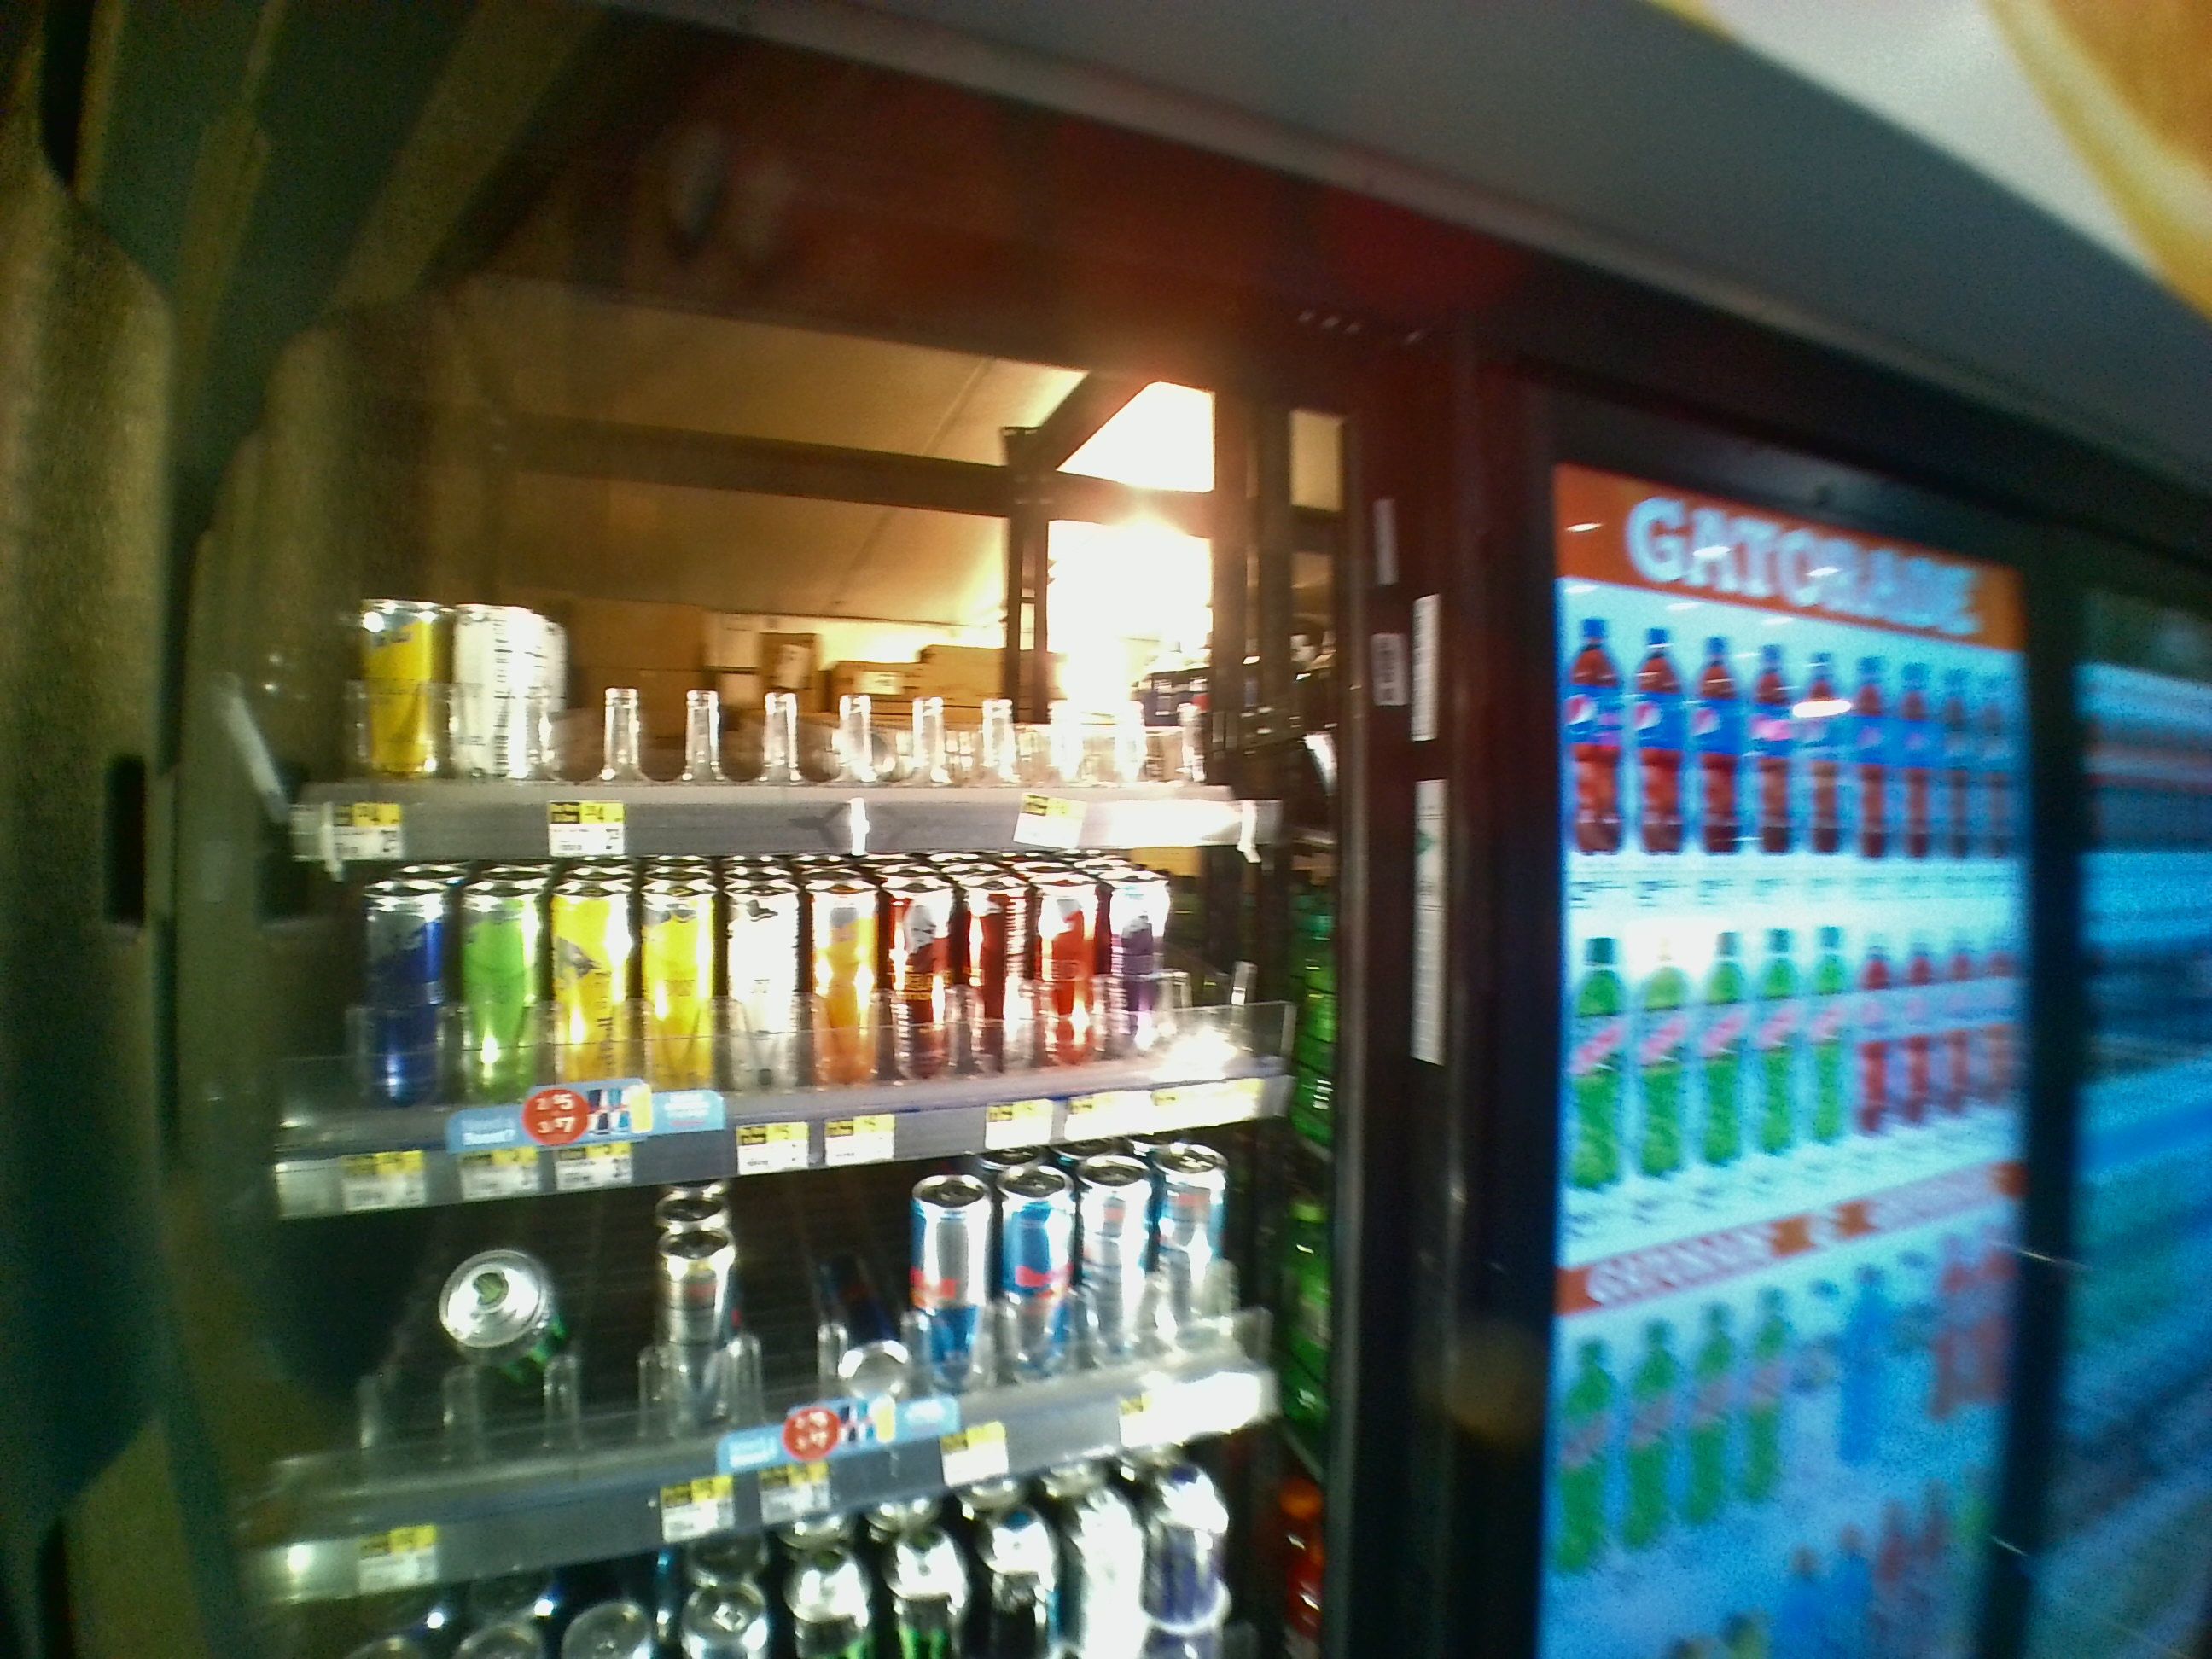shelf: (247, 270, 1359, 847), (237, 819, 1364, 1143)
